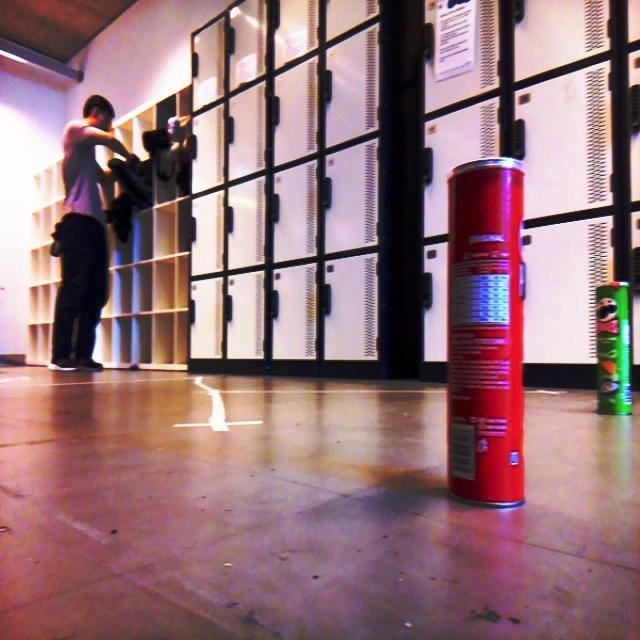greenpringles: (586, 273, 640, 444)
redpringles: (416, 144, 541, 525)
